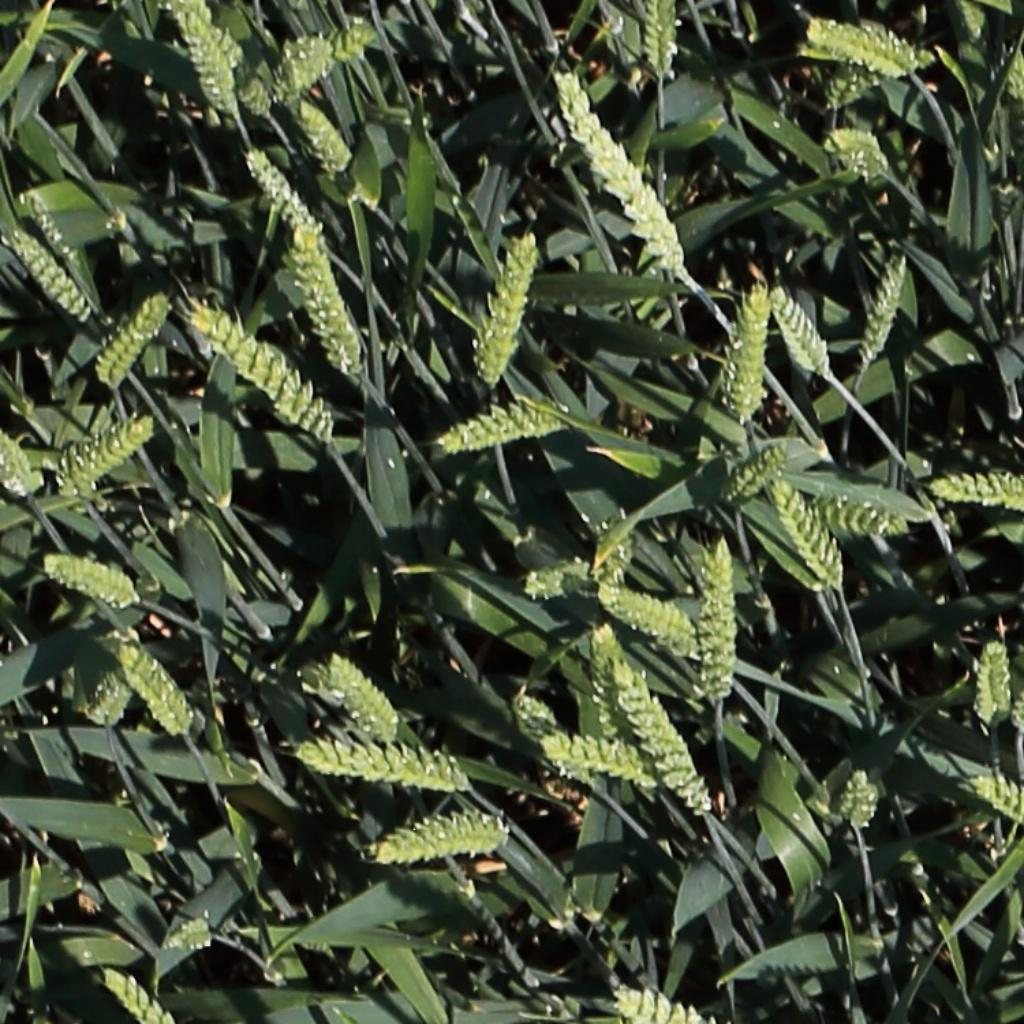0-0: (576, 102, 688, 273), (192, 305, 333, 438), (613, 660, 716, 821), (286, 730, 478, 797), (476, 225, 542, 387), (431, 395, 582, 461), (289, 223, 353, 378), (4, 225, 95, 326), (241, 144, 330, 244), (271, 13, 372, 101), (772, 476, 849, 591), (116, 638, 193, 741), (833, 44, 940, 116), (94, 289, 170, 390), (211, 11, 285, 113), (368, 809, 513, 861), (176, 8, 241, 120), (765, 281, 838, 378), (66, 417, 154, 494), (327, 653, 402, 740), (858, 248, 912, 367), (536, 728, 653, 780), (603, 592, 710, 648), (725, 282, 771, 410), (811, 17, 918, 70), (704, 539, 735, 707), (506, 558, 616, 604), (929, 468, 1024, 519), (101, 966, 184, 1024), (19, 184, 77, 267), (294, 94, 354, 174), (724, 441, 793, 506), (614, 989, 740, 1024), (40, 555, 136, 600), (590, 512, 638, 591), (593, 615, 622, 744), (87, 669, 132, 731), (812, 505, 907, 532), (972, 778, 1024, 827), (0, 421, 35, 490), (505, 688, 555, 733), (648, 0, 674, 84), (850, 765, 877, 838), (994, 42, 1024, 107), (957, 0, 989, 46), (162, 922, 211, 951)
